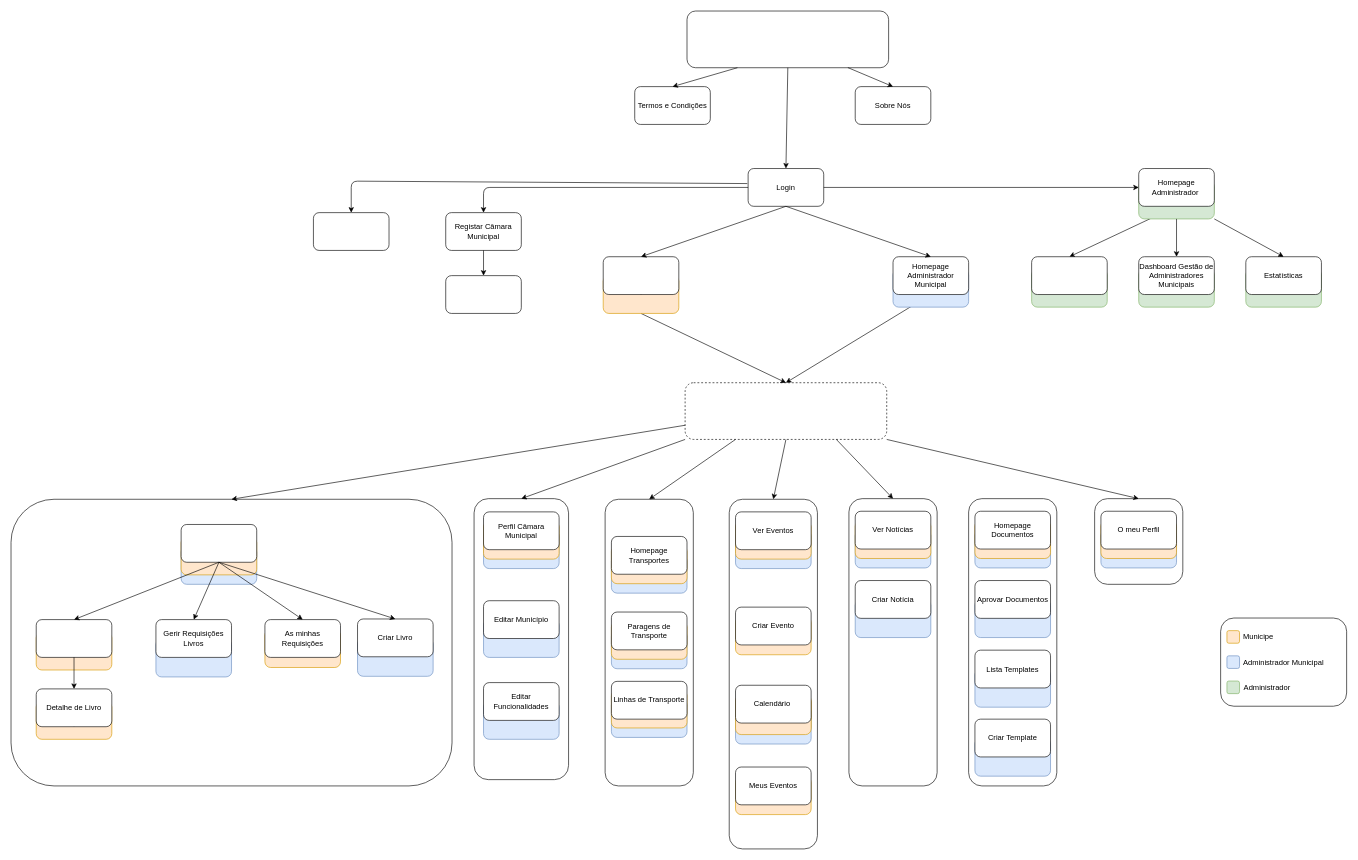
Some shapes in this 1358 by 860 pixel diagram are drawn without their labels. The centre of each missing label's shape, as x and y in pixels:
"Dashboard Gestão de Municípios" belongs at (1069,275).
"Header" belongs at (785,410).
"Homepage Biblioteca" belongs at (218,543).
"Homepage Utilizador" belongs at (641,275).
"Landing Page" belongs at (787,39).
"Lista de Livros" belongs at (74,638).
"Registar Admin Municipal" belongs at (483,294).
"Registar Munícipe" belongs at (351,231).
